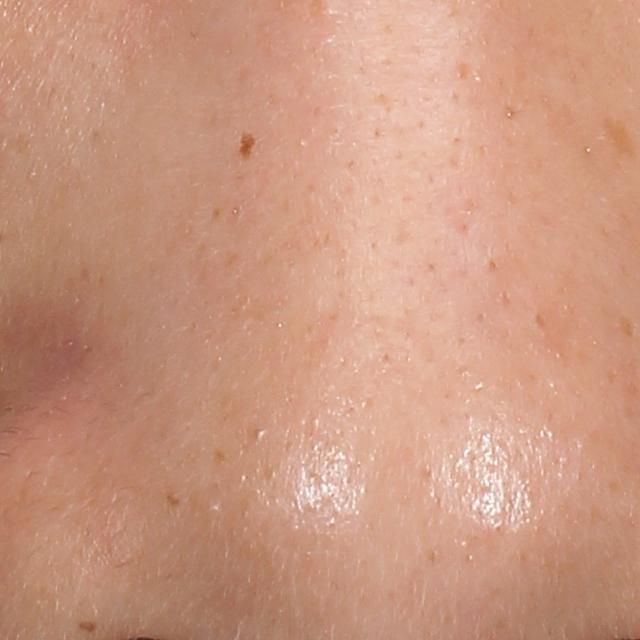nevus: (236, 130, 257, 163), (77, 619, 99, 635)
